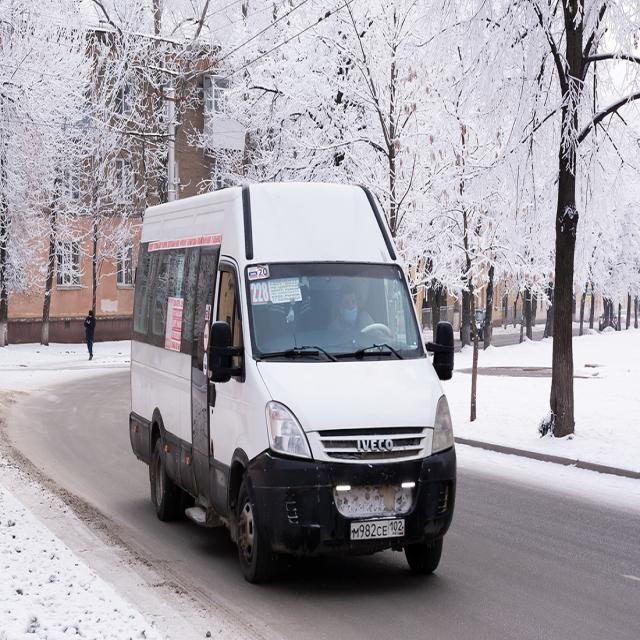number-of-bus: (252, 280, 270, 305)
